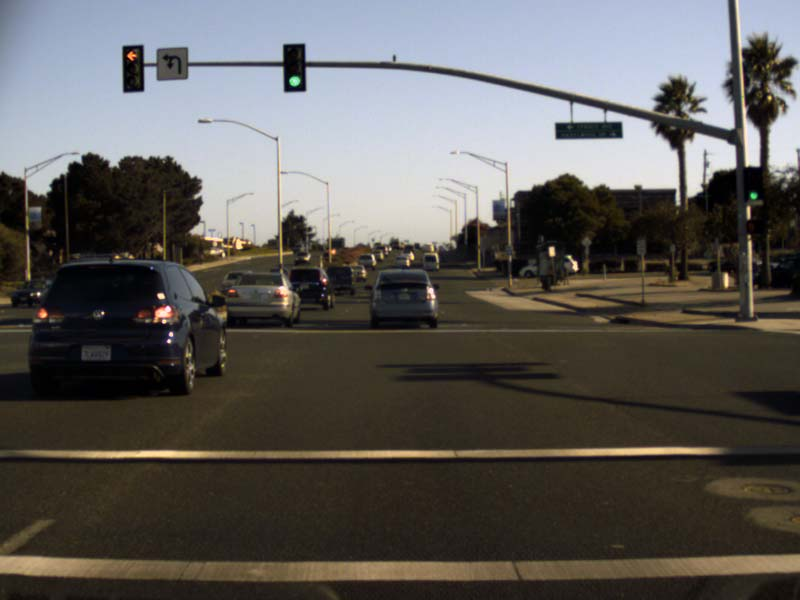Green: (283, 43, 306, 92), (744, 166, 761, 200)
Red: (122, 44, 143, 92)
